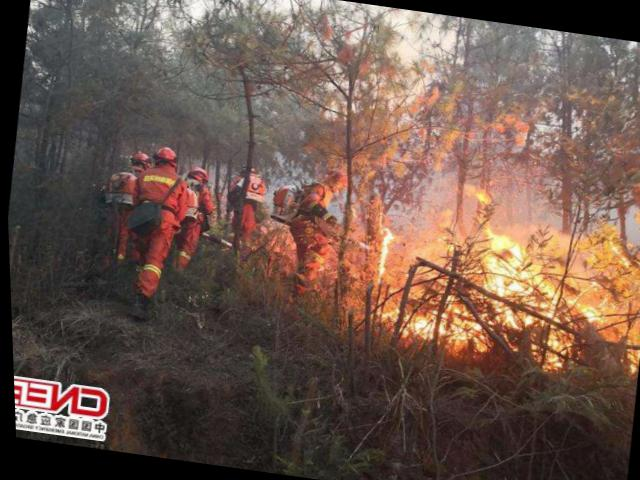fire: (343, 167, 639, 387)
